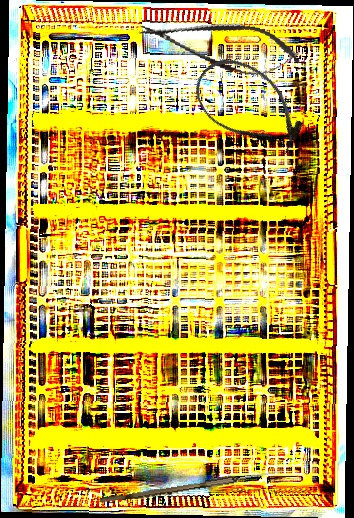Cannula: (182, 43, 317, 169)
Micro Scissor: (133, 4, 306, 86)
Surgical Spoon: (99, 466, 284, 507)
